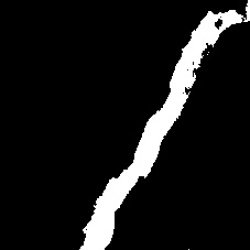crack: (78, 10, 245, 246)
